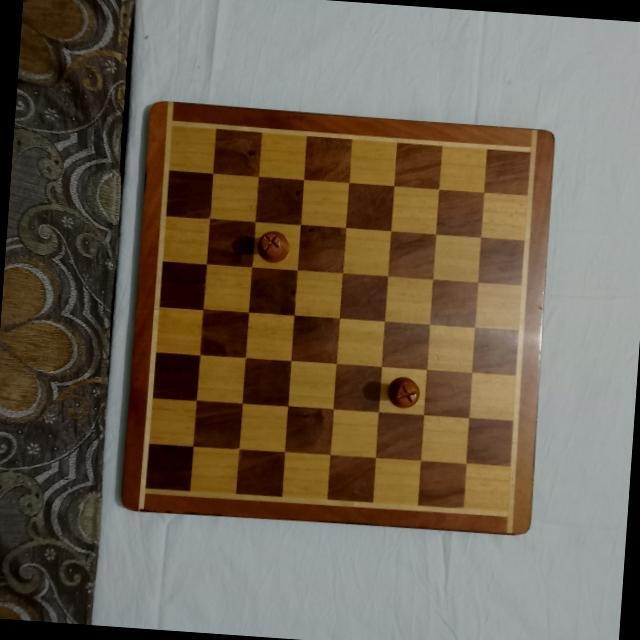white-rook: (385, 373, 422, 409), (254, 228, 290, 264)
